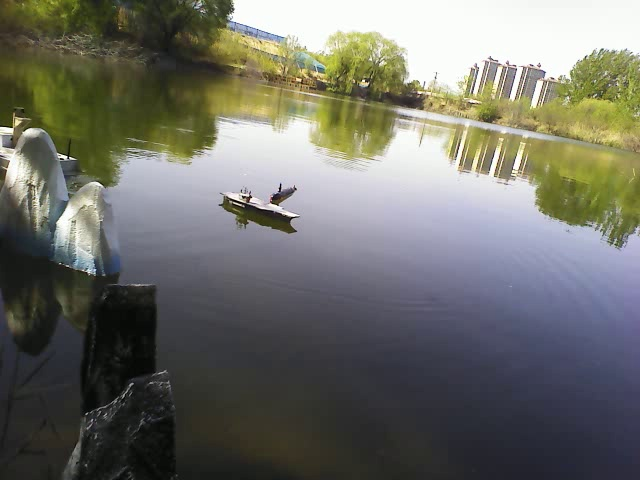aircraft_carrier: (218, 187, 304, 228)
iceberg: (6, 126, 126, 280)
rock: (65, 282, 190, 471)
submarine: (269, 183, 303, 205)
